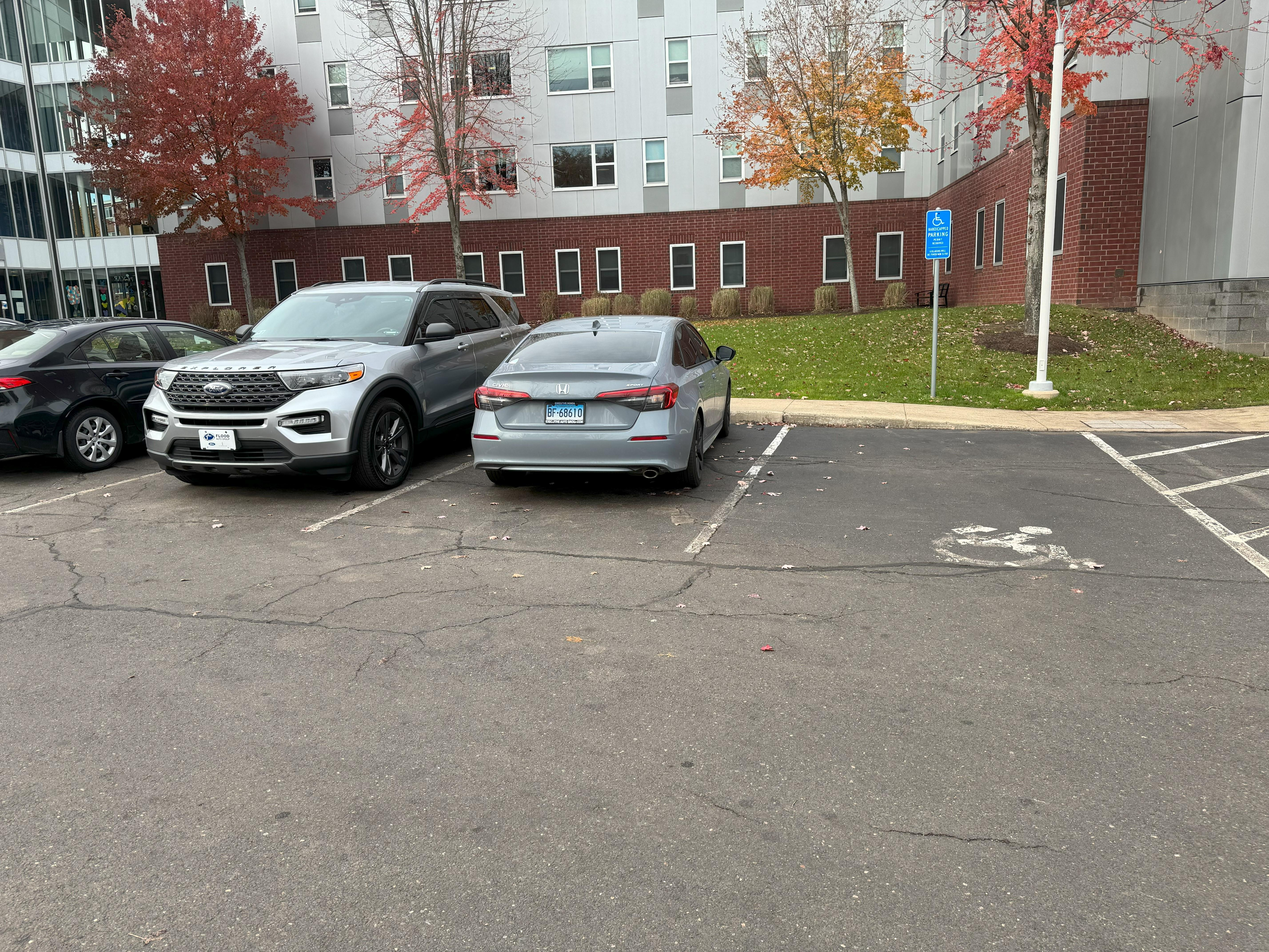empty: (782, 420, 1147, 577)
occupied: (146, 254, 464, 494), (478, 294, 768, 513), (9, 292, 142, 480)
